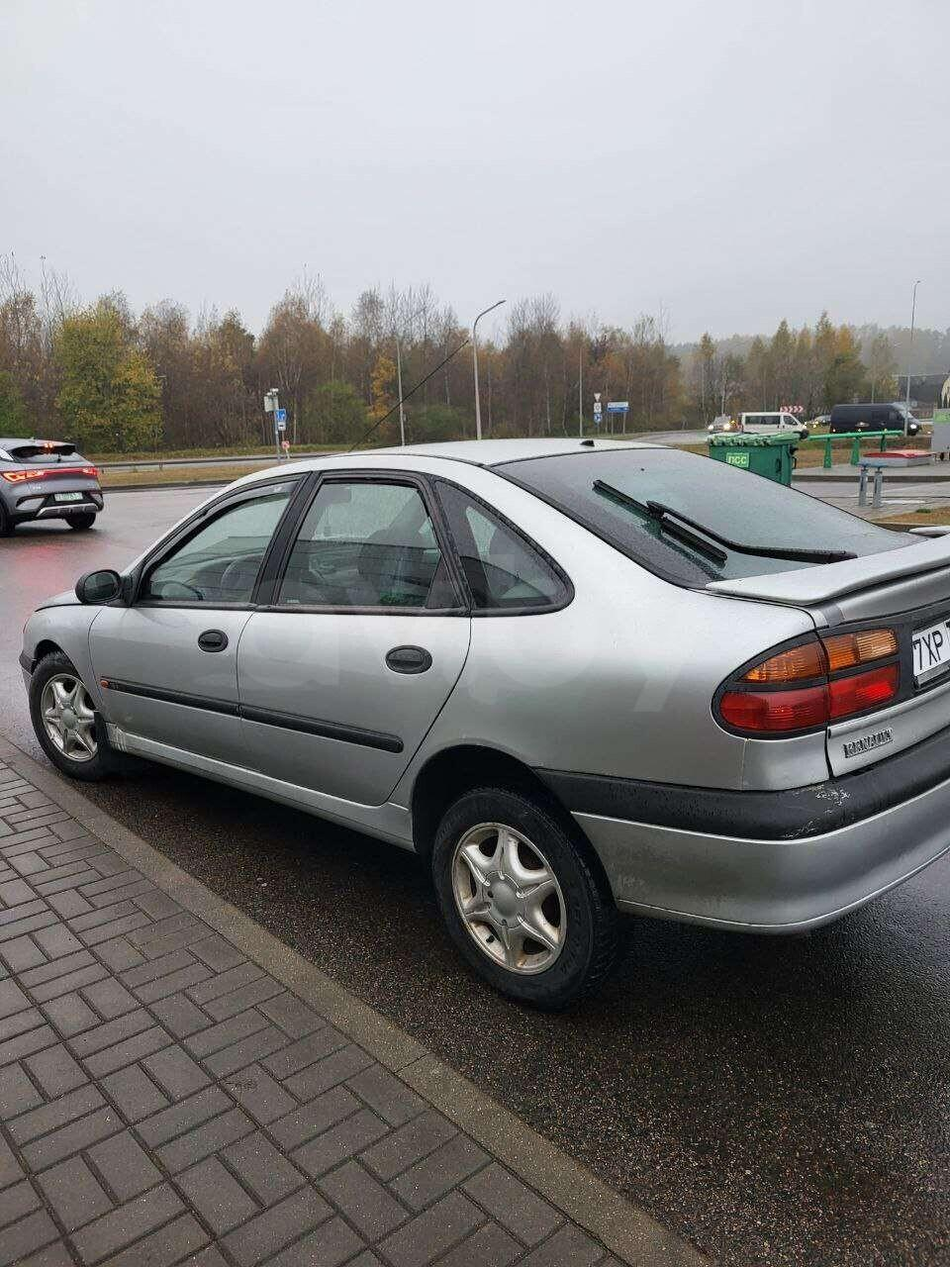Laguna_1998-2001: (18, 437, 950, 994)
